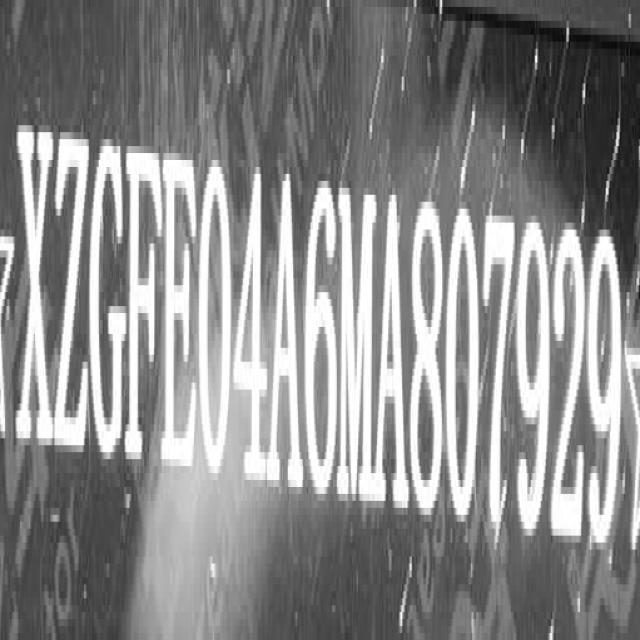0: (200, 156, 235, 488), (447, 206, 482, 534)
2: (550, 223, 586, 552)
4: (233, 162, 268, 495)
6: (303, 178, 340, 500)
7: (483, 206, 515, 536)
8: (411, 202, 445, 520)
9: (516, 219, 551, 545), (590, 233, 624, 556)
A: (376, 192, 412, 516), (270, 171, 303, 499)
E: (162, 148, 199, 488)
F: (128, 140, 164, 484)
G: (90, 130, 128, 471)
M: (340, 183, 377, 507)
X: (18, 113, 53, 456)
Z: (54, 125, 88, 466)
